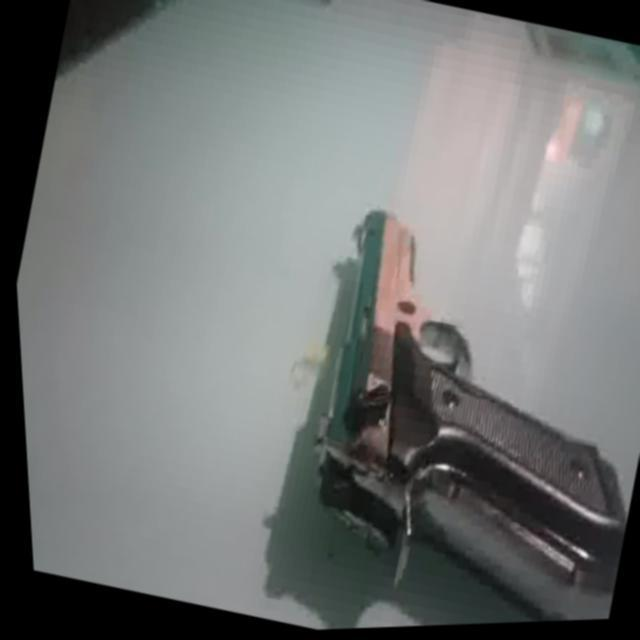weapon: (235, 190, 640, 634)
